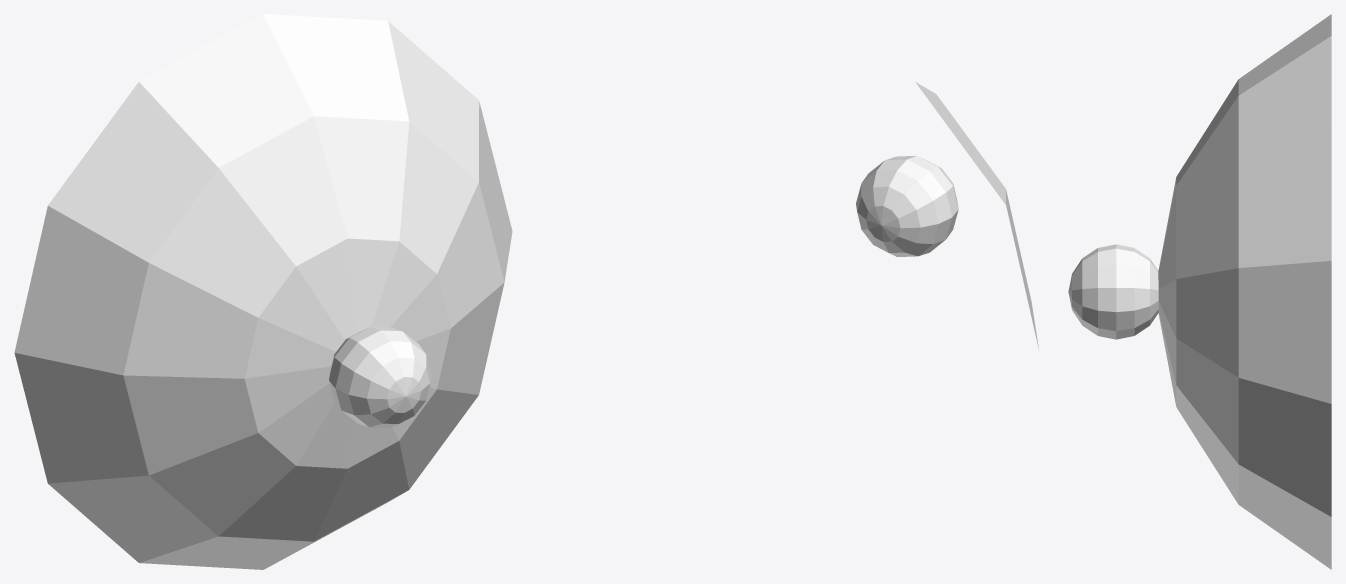
Rendered from hat_beanie.glb.
3 views of the same model, side by side, from view 1: azimuth 30°, elevation 25°; view 2: azimuth 150°, elevation 25°; view 3: azimuth 270°, elevation 25° (orthographic). The views are drawn at different scales.
Parts seen in each view (by area): view 1: hat_beanie; view 2: hat_beanie; view 3: hat_beanie.
Boxes of the visible parts, x1,y1,x2,y2 form: hat_beanie: (14, 14, 512, 569); hat_beanie: (856, 82, 1039, 350); hat_beanie: (1068, 14, 1331, 569).
Size of the model in its own units: 0.5543 by 0.5913 by 0.2752.
1 material, 1 textured.
